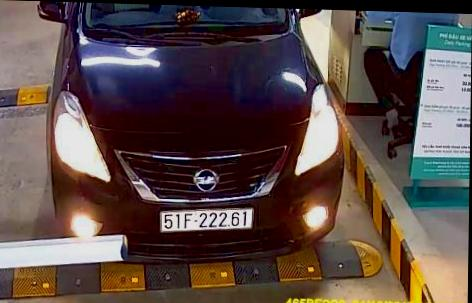License_Plate: (156, 203, 259, 239)
